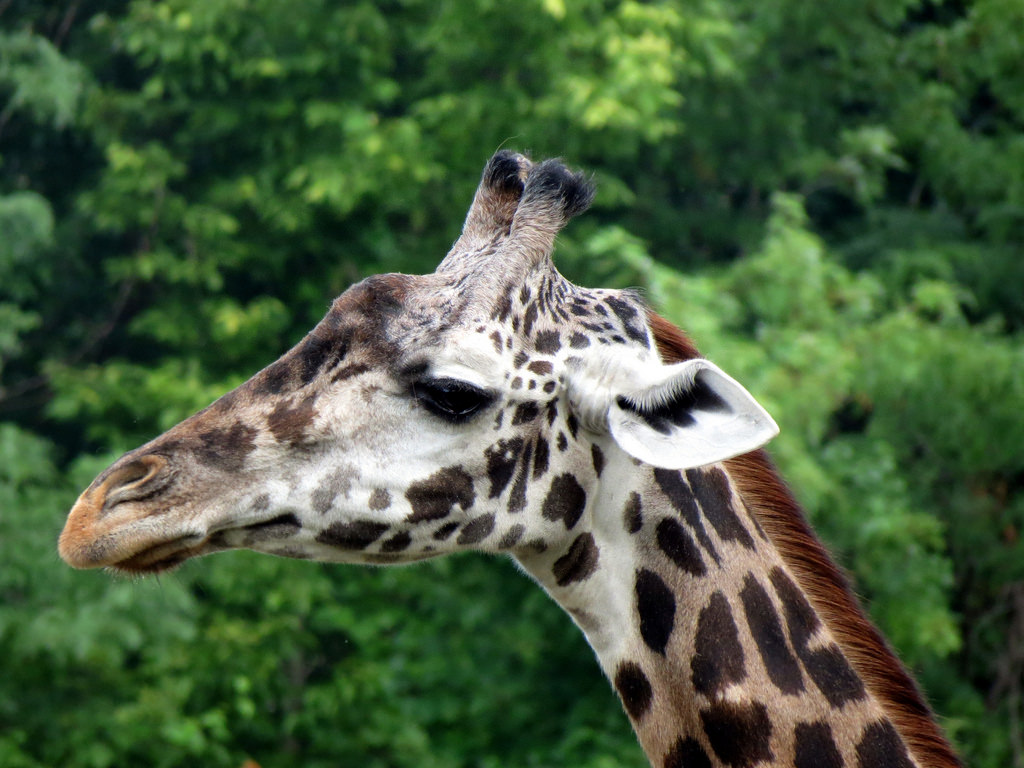giraffe: (52, 154, 996, 764)
